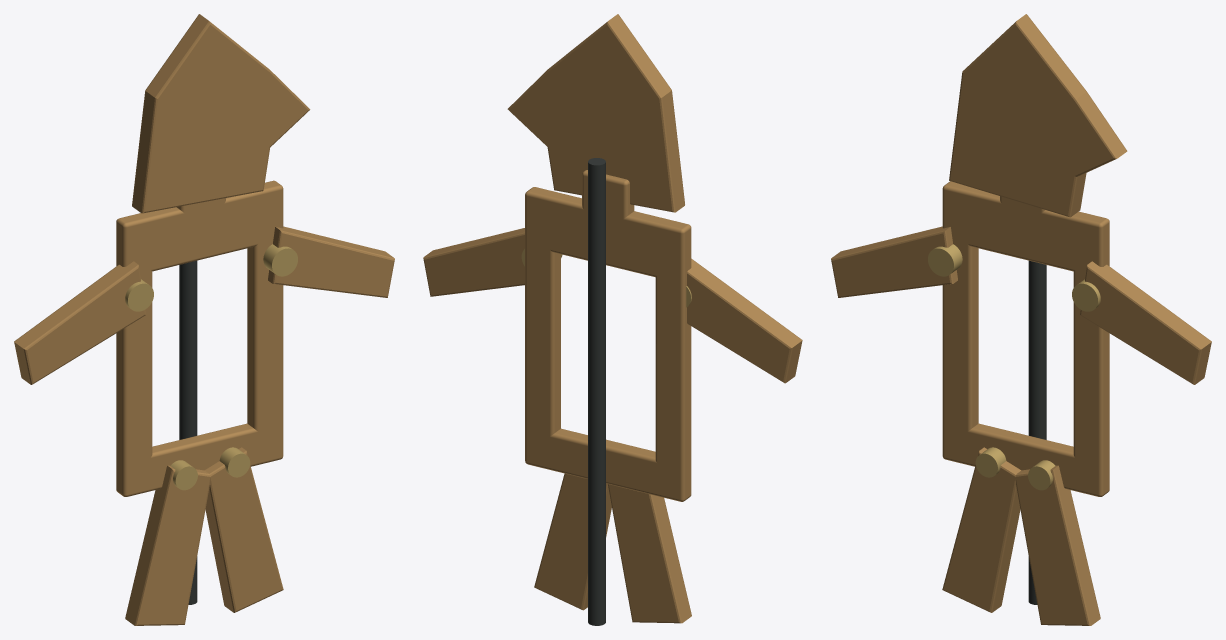
File: abandoned-puppet-theatre-and-prop-vault-cutwork-shadow-3f5f01e4__31085.glb
The picture shows the model from 3 angles, left to right: view 1: azimuth 30°, elevation 25°; view 2: azimuth 150°, elevation 25°; view 3: azimuth 330°, elevation 25°; orthographic projection.
Visible parts, largest first — view 1: cutwork-shadow-puppet; view 2: cutwork-shadow-puppet; view 3: cutwork-shadow-puppet.
Boxes of the visible parts, bbox=[...] form: cutwork-shadow-puppet: bbox=[14, 14, 394, 625]; cutwork-shadow-puppet: bbox=[423, 14, 802, 625]; cutwork-shadow-puppet: bbox=[831, 14, 1211, 625].
Size of the model in its own units: 0.5668 by 0.8728 by 0.077.
